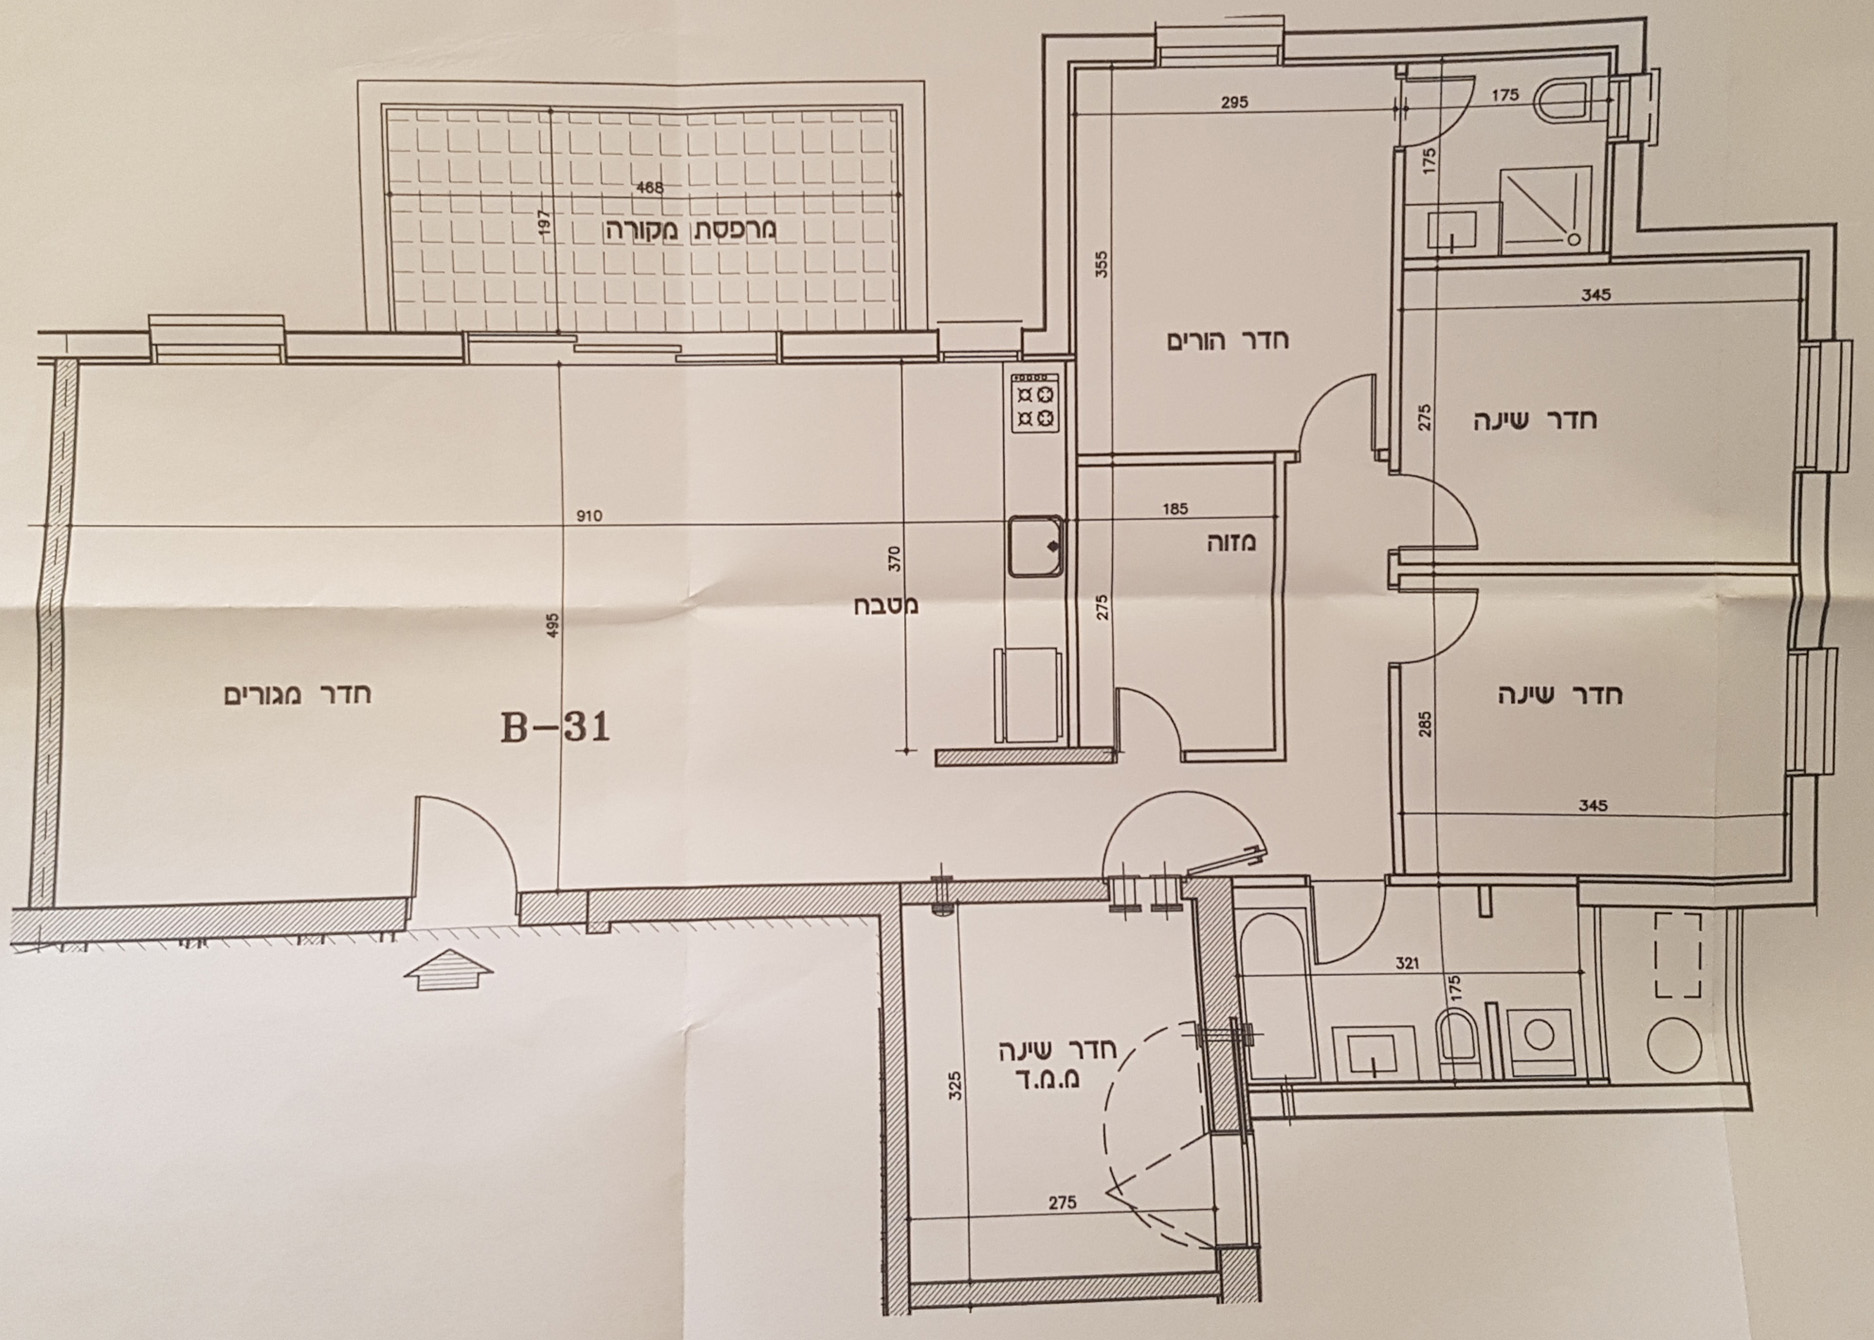door: (381, 770, 535, 940), (1287, 350, 1387, 470)
window: (157, 297, 281, 377)
